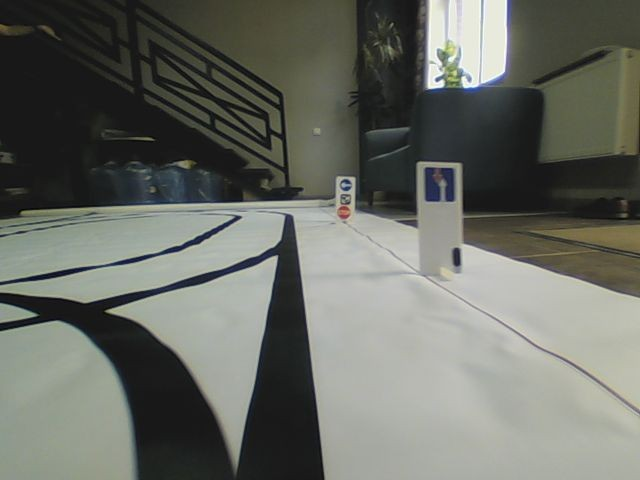priority_movement: (424, 166, 456, 202)
